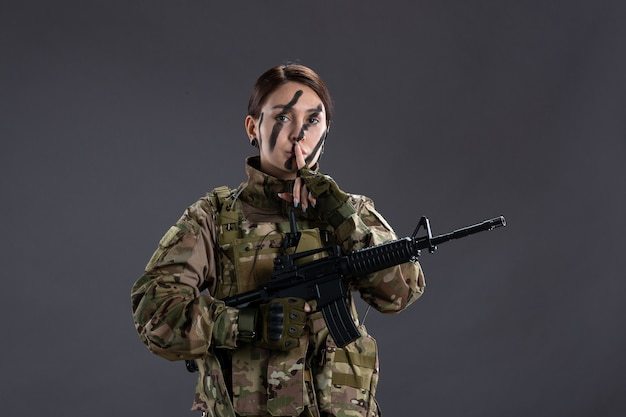gun: (222, 213, 506, 350)
